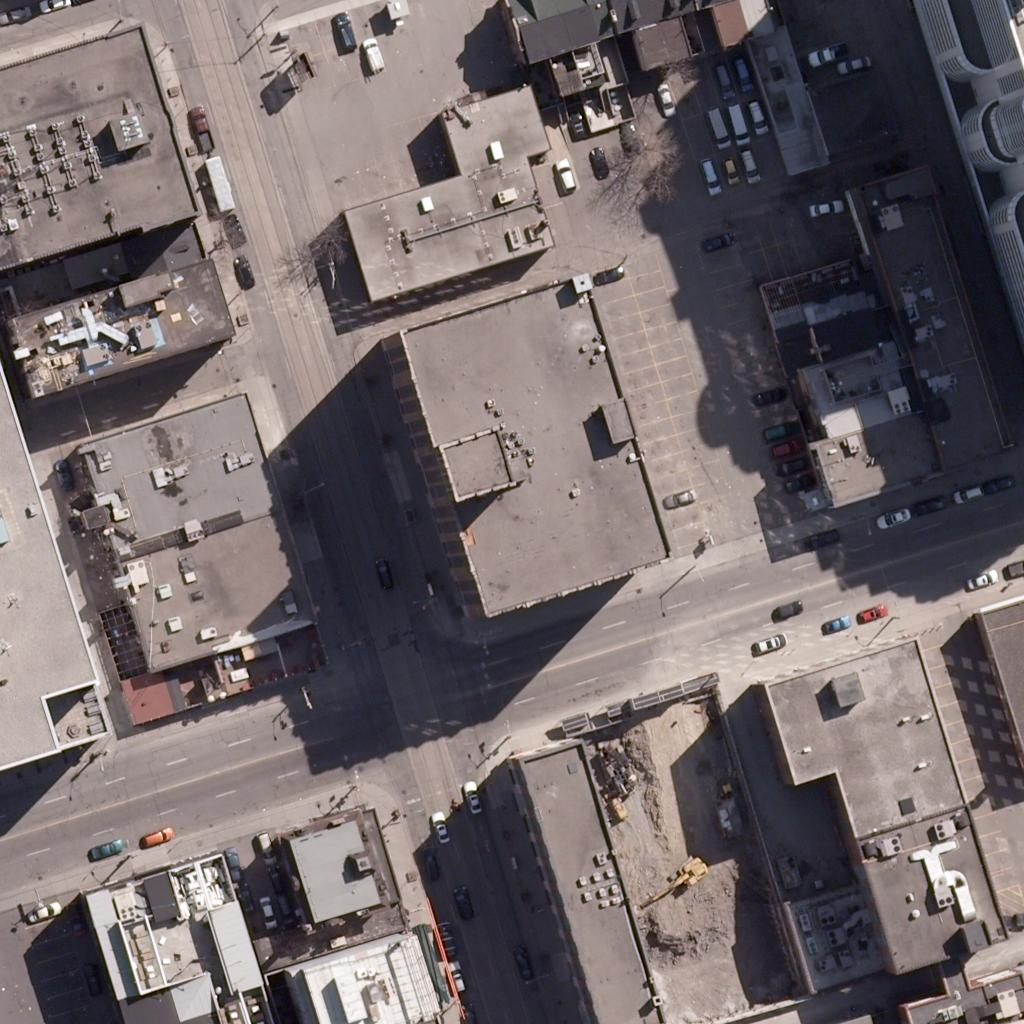car: (327, 12, 361, 46), (355, 37, 389, 71), (810, 37, 844, 71), (837, 46, 871, 80), (726, 56, 760, 90), (708, 63, 742, 97), (648, 81, 682, 115), (741, 101, 775, 135), (184, 108, 218, 142), (723, 112, 757, 146), (723, 113, 757, 147), (704, 116, 738, 150), (613, 120, 647, 154), (581, 144, 615, 178), (732, 149, 766, 183), (713, 151, 747, 185), (547, 157, 581, 191), (692, 161, 726, 195), (808, 190, 842, 224), (218, 210, 252, 244), (698, 225, 732, 259), (227, 253, 261, 287), (595, 257, 629, 291), (754, 378, 788, 412), (765, 410, 799, 444), (773, 429, 807, 463), (774, 448, 808, 482), (47, 460, 81, 494), (784, 466, 818, 500), (982, 466, 1016, 500), (952, 476, 986, 510), (663, 480, 697, 514), (914, 488, 948, 522), (877, 500, 911, 534), (803, 522, 837, 556), (366, 555, 400, 589), (966, 561, 1000, 595), (771, 591, 805, 625), (855, 595, 889, 629), (819, 607, 853, 641), (753, 626, 787, 660), (456, 781, 490, 815), (424, 810, 458, 844), (139, 819, 173, 853), (247, 826, 281, 860), (87, 831, 121, 865), (216, 845, 250, 879), (413, 845, 447, 879), (259, 863, 293, 897), (229, 884, 263, 918), (445, 887, 479, 921), (269, 892, 303, 926), (251, 894, 285, 928), (25, 895, 59, 929), (59, 901, 93, 935), (430, 922, 464, 956), (506, 945, 540, 979), (440, 961, 474, 995), (75, 964, 109, 998), (0, 0, 30, 30), (451, 1000, 485, 1024), (35, 0, 69, 19)
